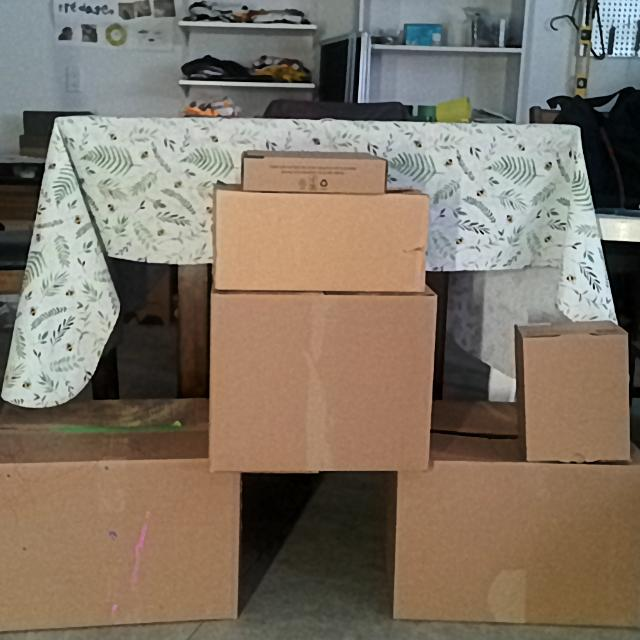box: (210, 295, 431, 471), (0, 464, 237, 626), (398, 464, 640, 622), (214, 194, 429, 290), (524, 335, 629, 463), (244, 160, 387, 192)
